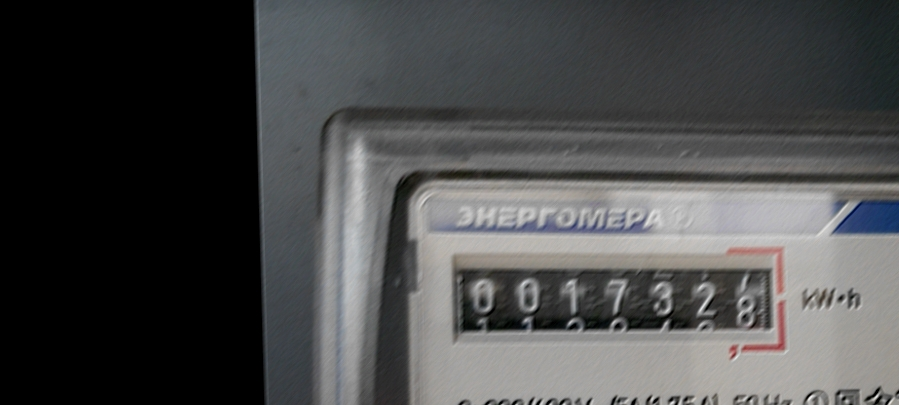0: (471, 276, 498, 316), (519, 276, 542, 315)
1: (564, 276, 583, 316)
2: (695, 281, 718, 318)
3: (654, 280, 677, 317)
7: (608, 277, 631, 316)
8: (737, 292, 757, 329)
screen: (442, 243, 799, 368)
